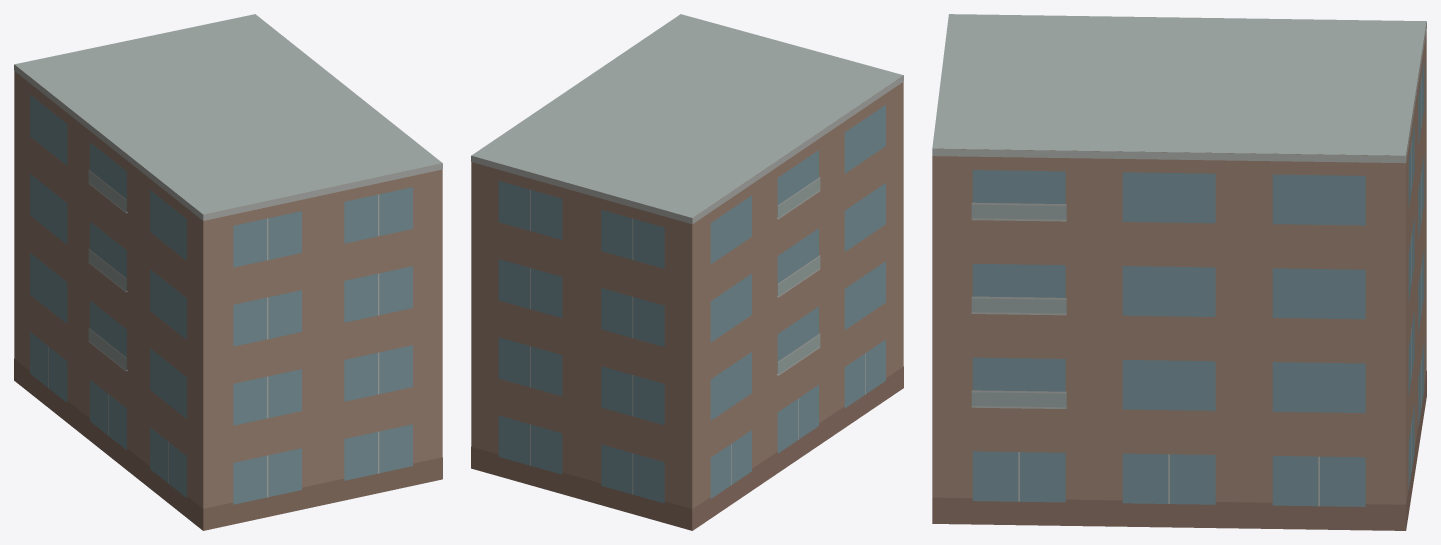
The model's file is residential-9bbadace-96e9-4244-9313-6577a28784a9.glb.
The picture shows the model from 3 angles, left to right: view 1: azimuth 30°, elevation 25°; view 2: azimuth 150°, elevation 25°; view 3: azimuth 270°, elevation 25°; orthographic projection. The views are drawn at different scales.
Parts seen in each view (by area): view 1: residential-9bbadace-96e9-4244-9313-6577a28784a9.tmp; view 2: residential-9bbadace-96e9-4244-9313-6577a28784a9.tmp; view 3: residential-9bbadace-96e9-4244-9313-6577a28784a9.tmp.
Boxes of the visible parts, x1,y1,x2,y2 form: residential-9bbadace-96e9-4244-9313-6577a28784a9.tmp: (14,14,442,530); residential-9bbadace-96e9-4244-9313-6577a28784a9.tmp: (471,14,903,530); residential-9bbadace-96e9-4244-9313-6577a28784a9.tmp: (932,14,1426,530).
Size of the model in its own units: 9.89 by 12.2 by 14.58.
